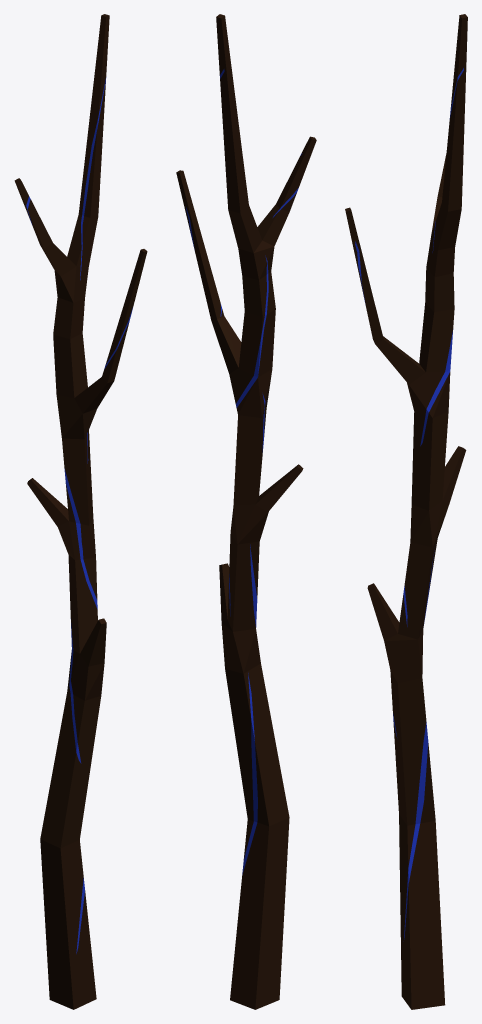
Rendered from WaterWand.obj.
3 views of the same model, side by side, from view 1: azimuth 30°, elevation 25°; view 2: azimuth 210°, elevation 25°; view 3: azimuth 270°, elevation 25° (orthographic). The views are drawn at different scales.
Visible parts, largest first — view 1: Cube; view 2: Cube; view 3: Cube.
Boxes of the visible parts, x1,y1,x2,y2 form: Cube: [14, 14, 147, 1009]; Cube: [176, 14, 316, 1009]; Cube: [345, 14, 467, 1009].
Bounding box in the file's own units: 0.0888 × 0.8379 × 0.0922.
